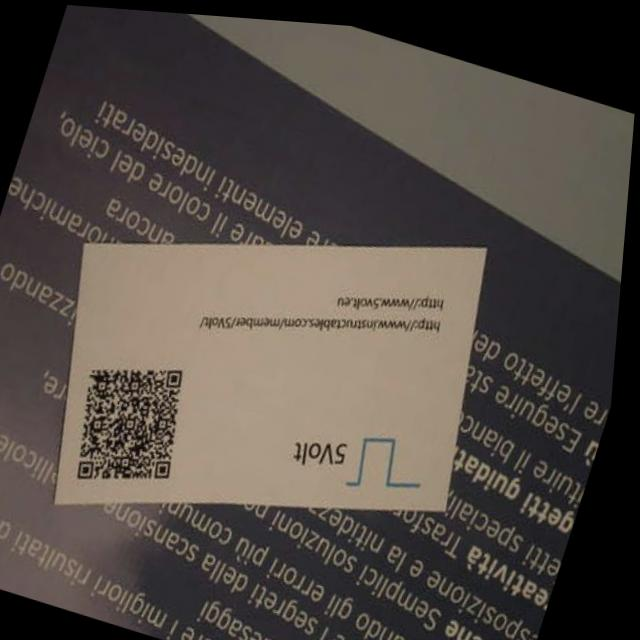qrcode: (65, 342, 208, 501)
